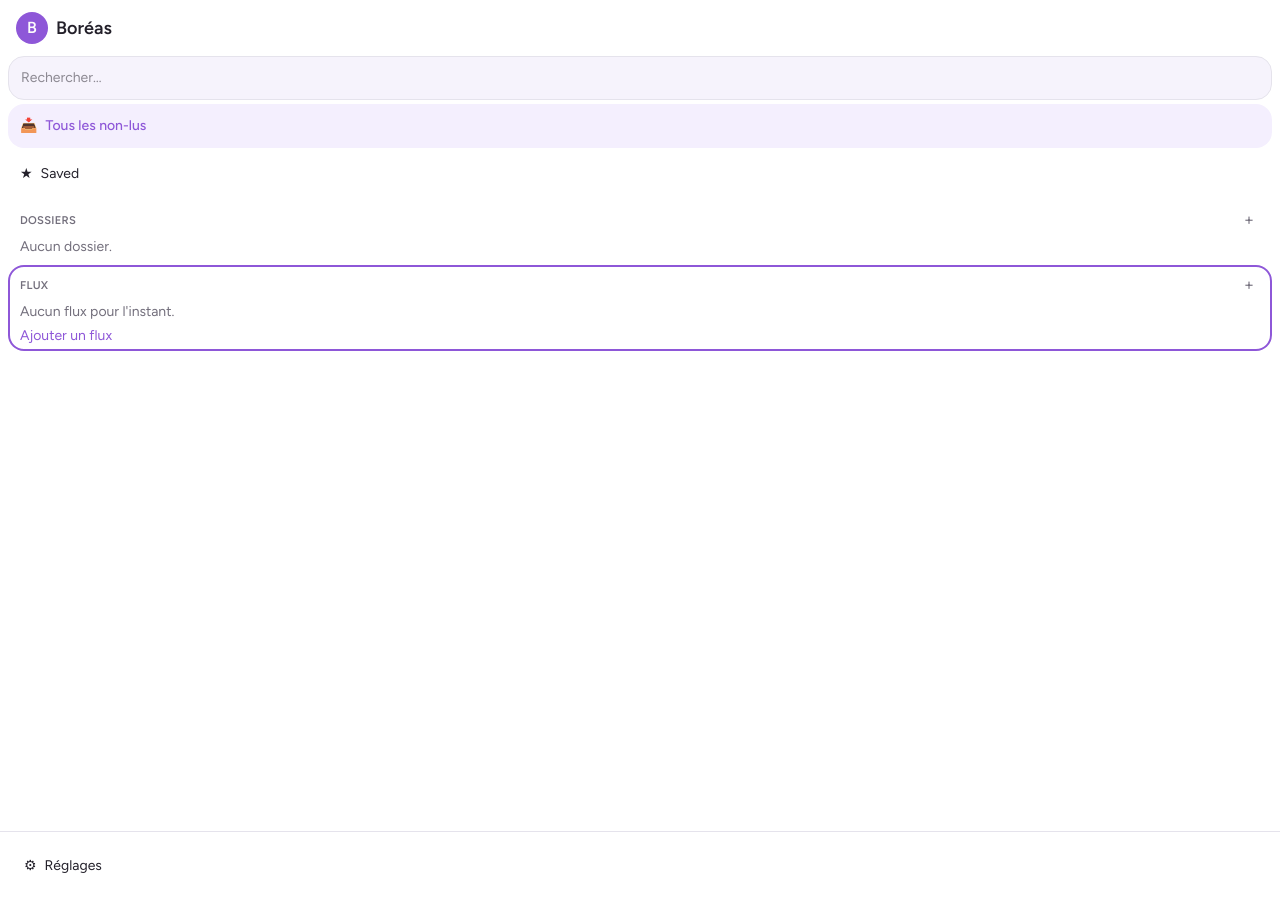
Test: Sidebar (intégration) › affiche l'erreur quand la création de dossier échoue
Click the button named "Nouveau dossier": coordinates (1249, 220) top-left (1238, 212), bottom-right (1260, 228)
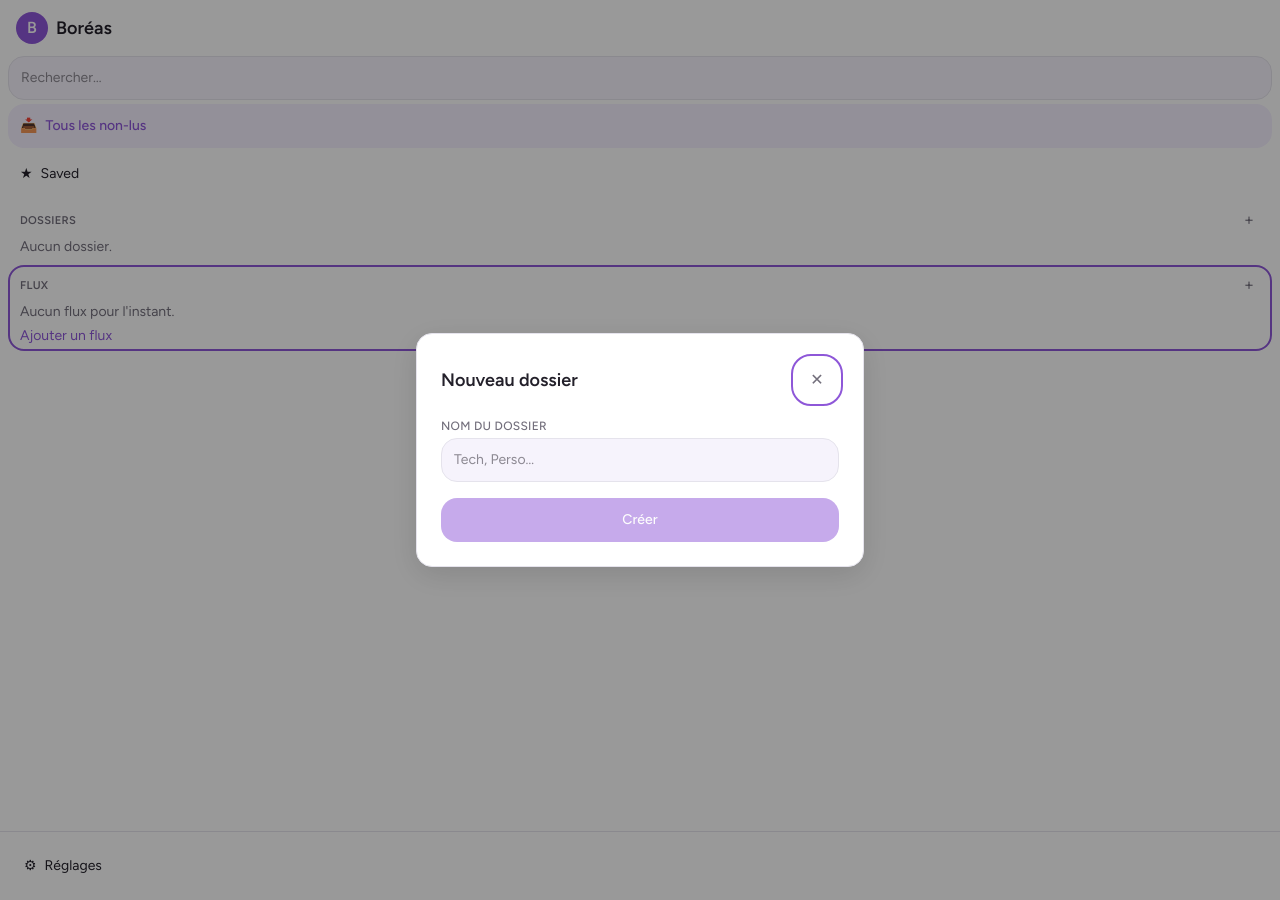
In the field labelled "Nom du dossier": coordinates (640, 460) top-left (441, 438), bottom-right (839, 482), type "Sport"
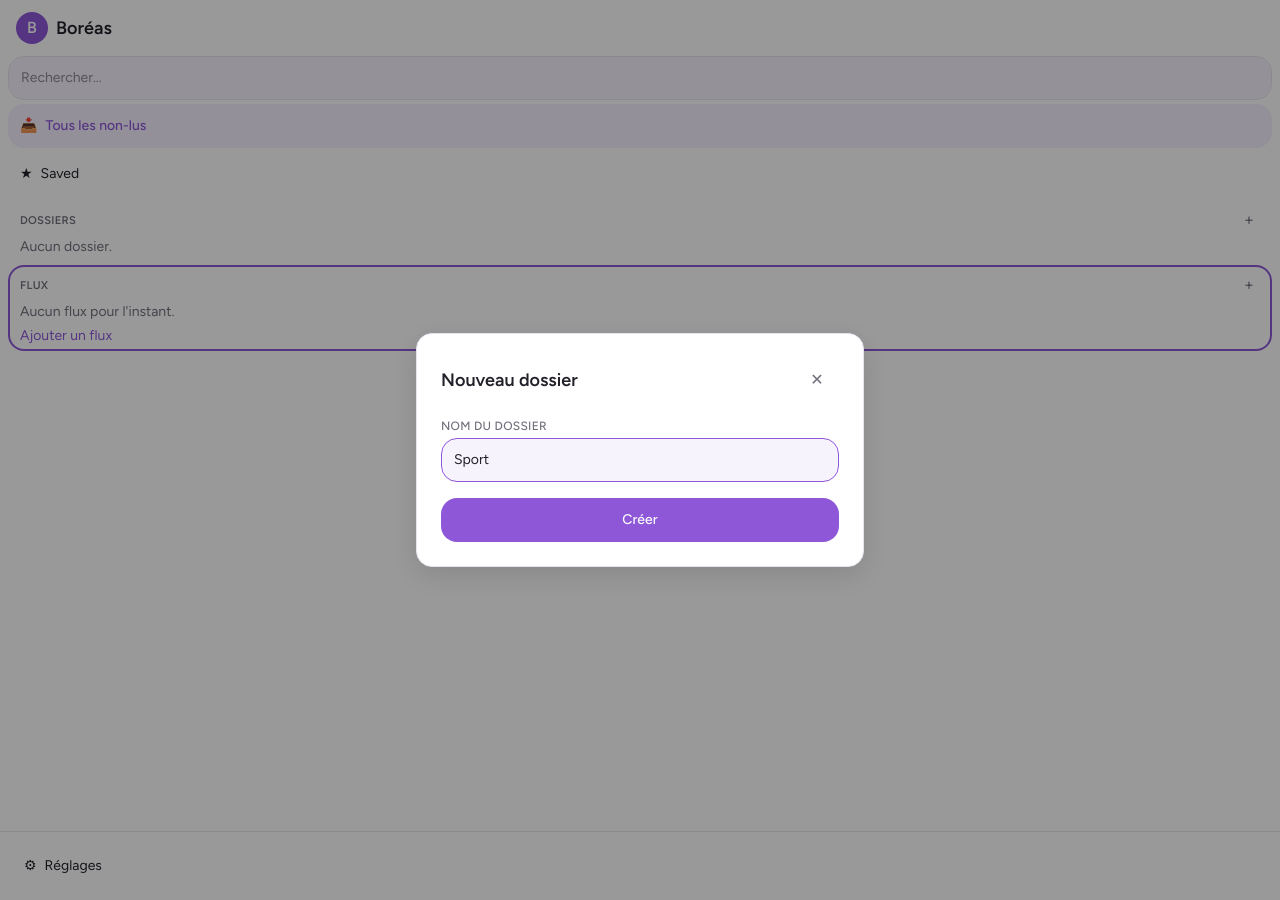
Click the button "Créer": coordinates (640, 520) top-left (441, 498), bottom-right (839, 542)
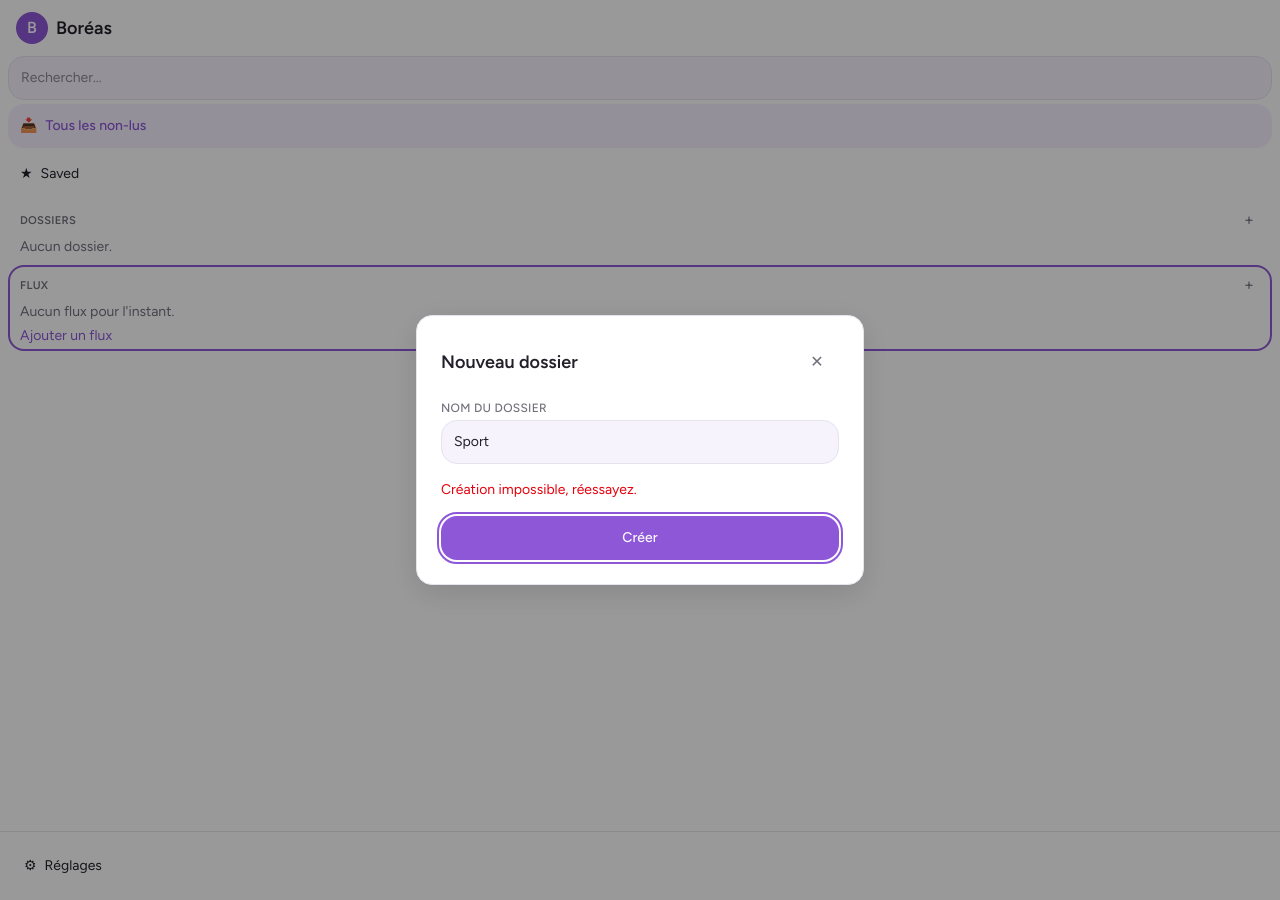
Now the text "Création impossible, réessayez." is shown, box top-left (441, 481), bottom-right (637, 498)
